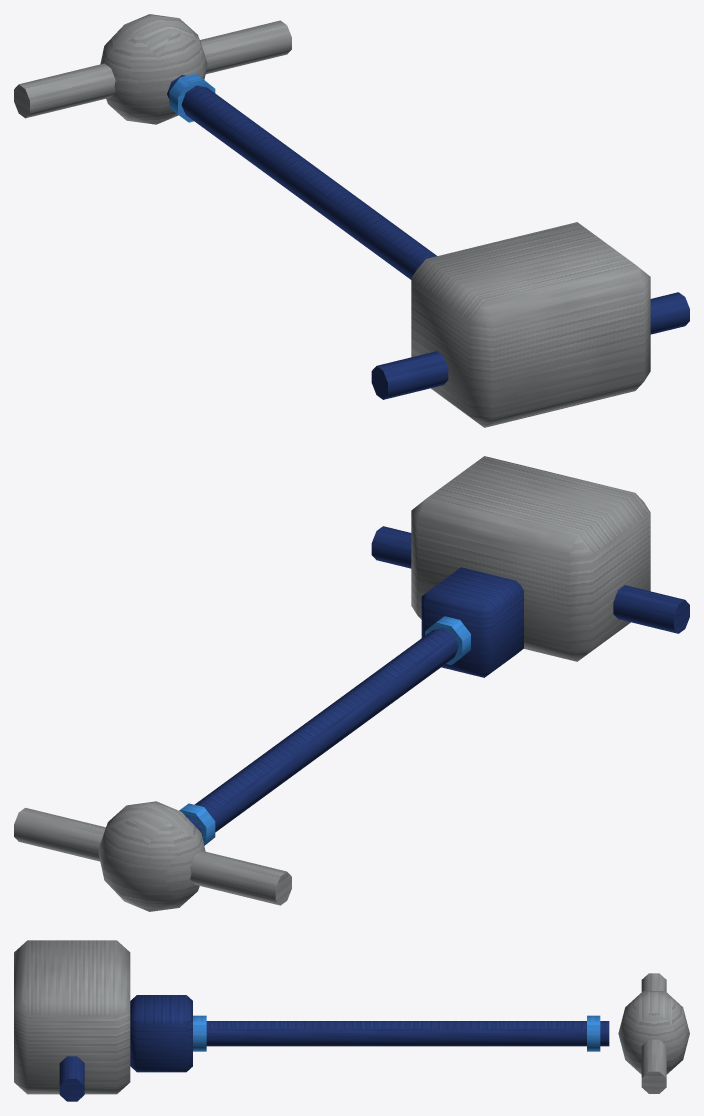
Rendered from conversao_tracao_n2.glb.
3 views of the same model, one above another, from view 1: azimuth 30°, elevation 25°; view 2: azimuth 150°, elevation 25°; view 3: azimuth 270°, elevation 25° (orthographic). The views are drawn at different scales.
Visible parts, largest first — view 1: conversao_tracao_n2; view 2: conversao_tracao_n2; view 3: conversao_tracao_n2.
Boxes of the visible parts, x1,y1,x2,y2 form: conversao_tracao_n2: (14,14,689,427); conversao_tracao_n2: (14,456,689,911); conversao_tracao_n2: (14,940,689,1101).
Bounding box in the file's own units: 0.6 × 0.26 × 1.51.
Materials: 1 (1 with a texture image).
